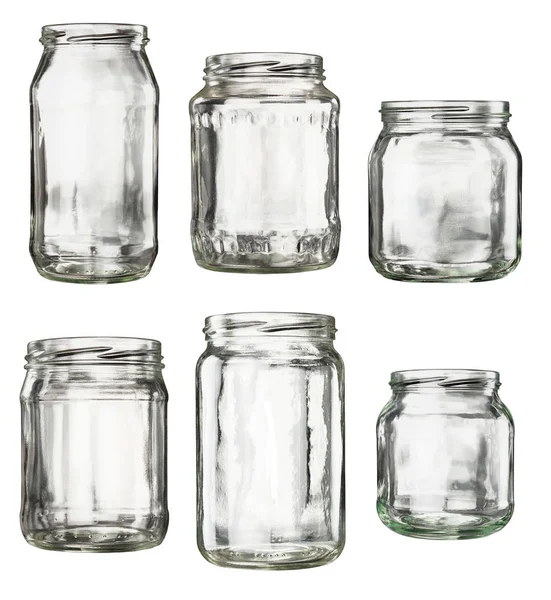glass_bottle: (186, 306, 359, 576), (19, 14, 168, 295), (182, 45, 350, 281), (11, 329, 178, 559), (360, 93, 534, 289), (369, 362, 525, 549)
